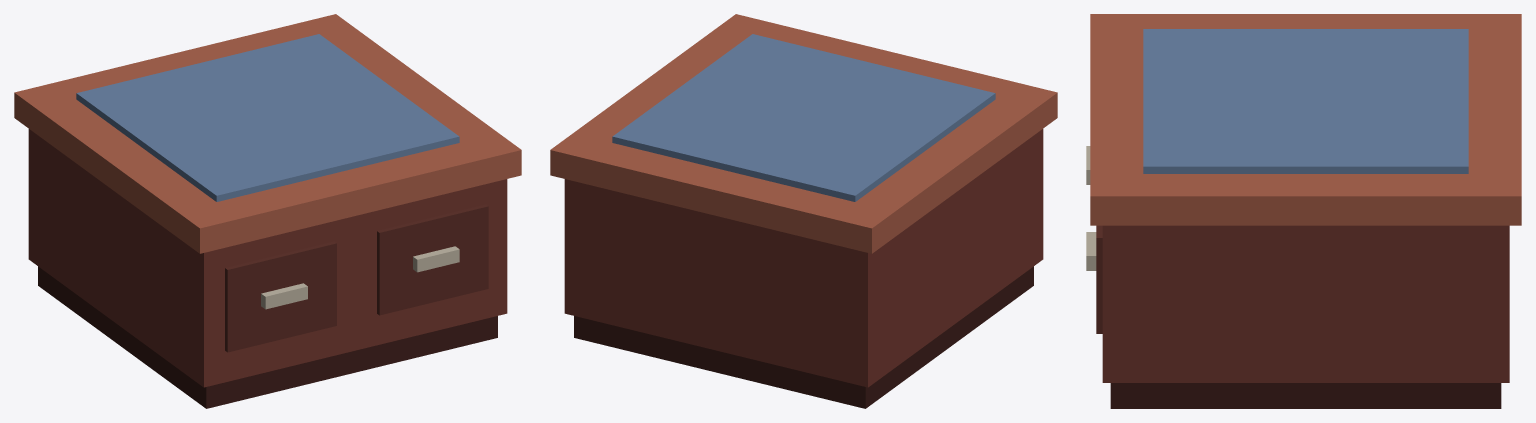
File: k_ember_wash.glb
The picture shows the model from 3 angles, left to right: view 1: azimuth 30°, elevation 25°; view 2: azimuth 150°, elevation 25°; view 3: azimuth 270°, elevation 25°; orthographic projection. The views are drawn at different scales.
Parts seen in each view (by area): view 1: piece; view 2: piece; view 3: piece.
Part boxes in pixels (bbox=[...]): piece: bbox=[14, 14, 521, 408]; piece: bbox=[550, 14, 1057, 408]; piece: bbox=[1086, 14, 1521, 408].
Size of the model in its own units: 1.06 by 0.62 by 1.07.
